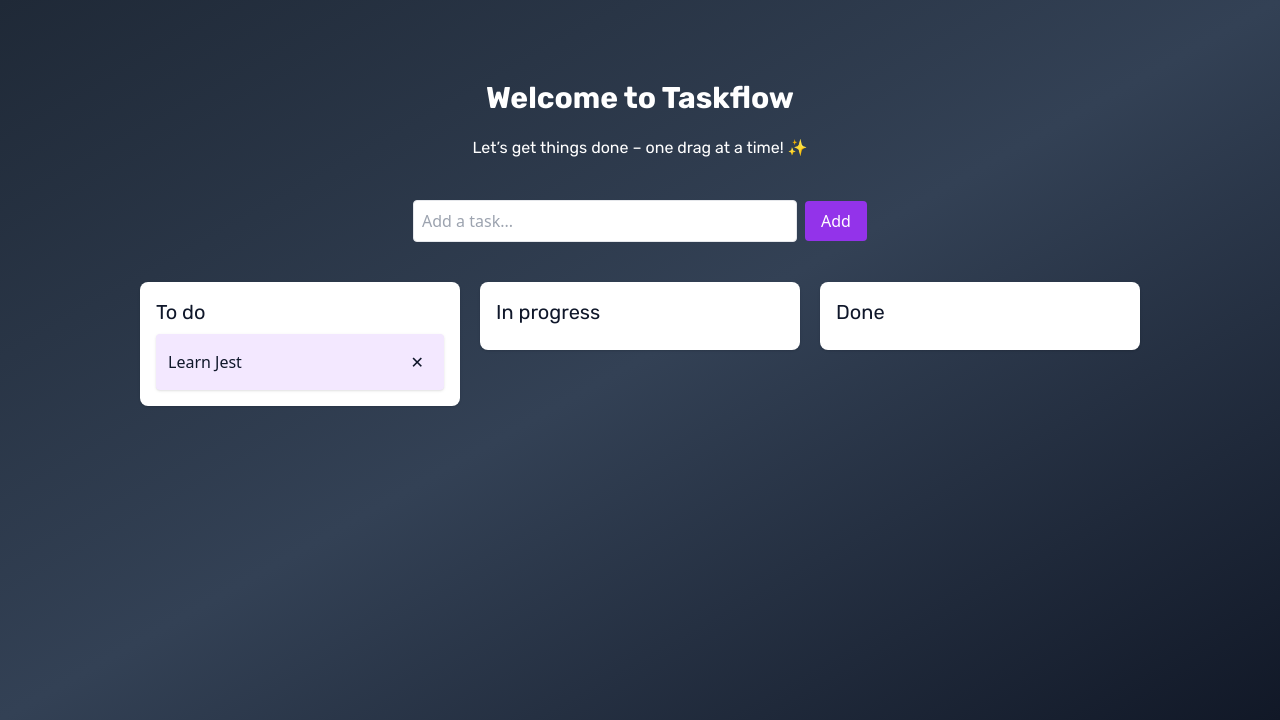
delete Task
expect the text "Learn Jest" is shown: met, box [168,350,242,374]
Click the button named "delete task". click: (417, 362)
box: [403,342,432,382]
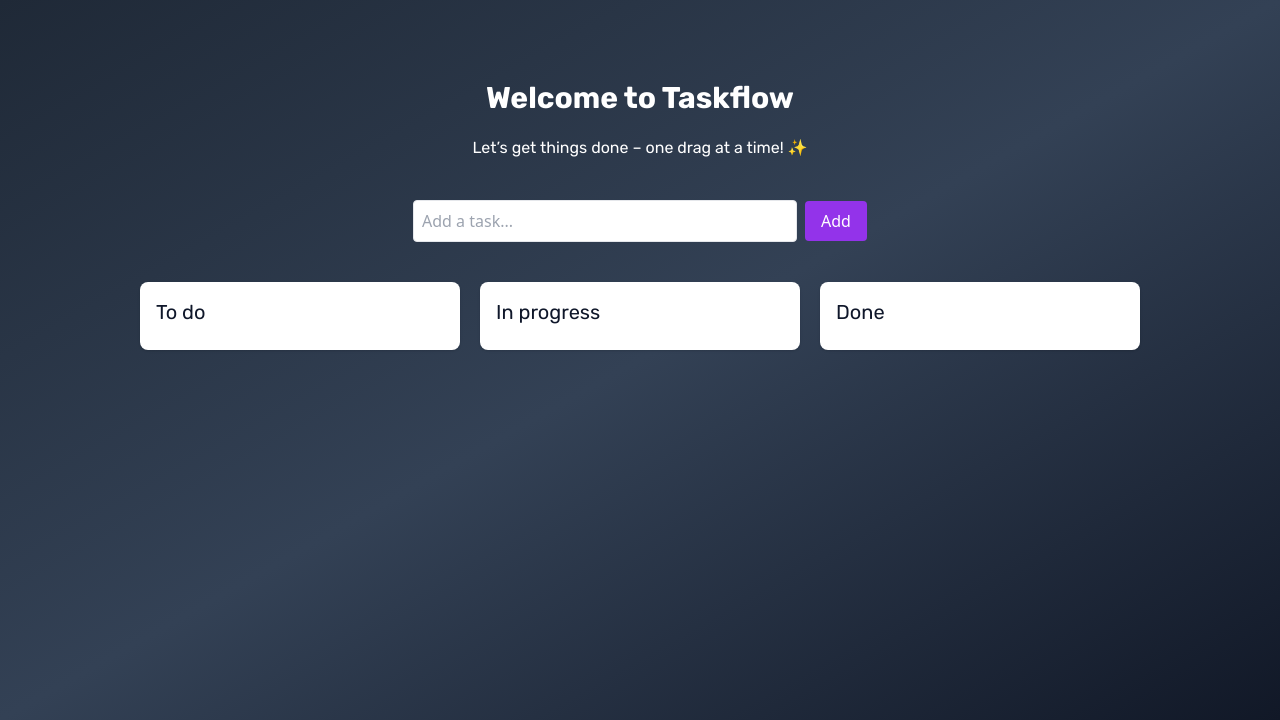
expect the button "Learn Jest" is gone: met
